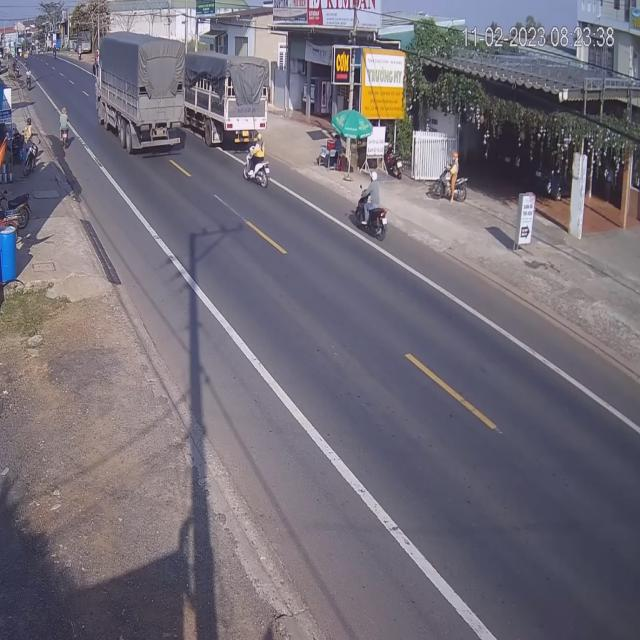motorbike: (349, 172, 386, 240), (241, 137, 268, 186), (446, 156, 466, 206), (60, 106, 72, 148)
truck: (97, 31, 186, 156), (187, 48, 269, 148)
